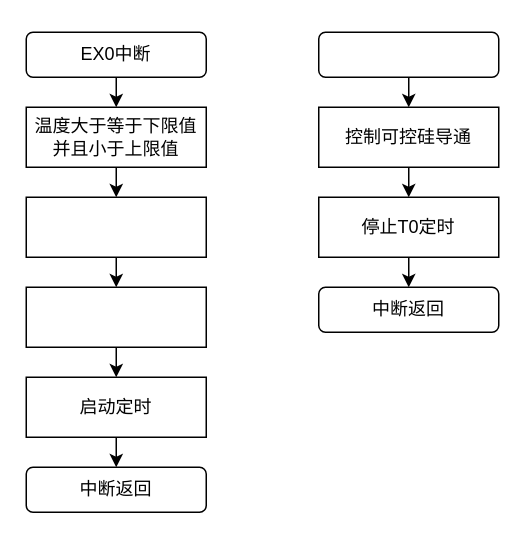
Some shapes in this 525 by 539 pixel diagram are drawn without their labels. Here are the shapes that lost their labels. From the top down, the centre of each, then its label:
pixel 408 54: T0中断
pixel 115 226: 控制可控硅截止
pixel 115 316: 设置 T0参数
